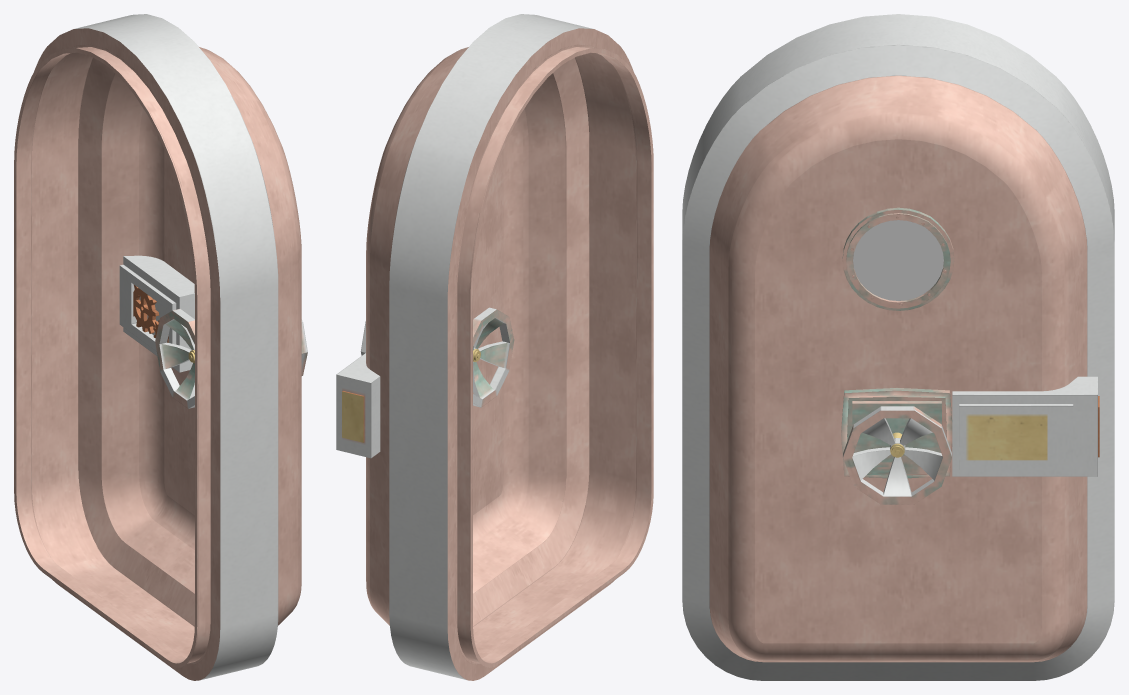
File: Smeltery_DoorFrame.fbx
The picture shows the model from 3 angles, left to right: view 1: azimuth 30°, elevation 25°; view 2: azimuth 150°, elevation 25°; view 3: azimuth 270°, elevation 25°; orthographic projection. The views are drawn at different scales.
Visible parts, largest first — view 1: OgModel.001; view 2: OgModel.001; view 3: OgModel.001.
Part boxes in pixels (left/top/right/bottom): OgModel.001: left=14, top=14, right=307, bottom=680; OgModel.001: left=336, top=14, right=653, bottom=680; OgModel.001: left=682, top=14, right=1114, bottom=680.
Size of the model in its own units: 60.64 by 193 by 119.
